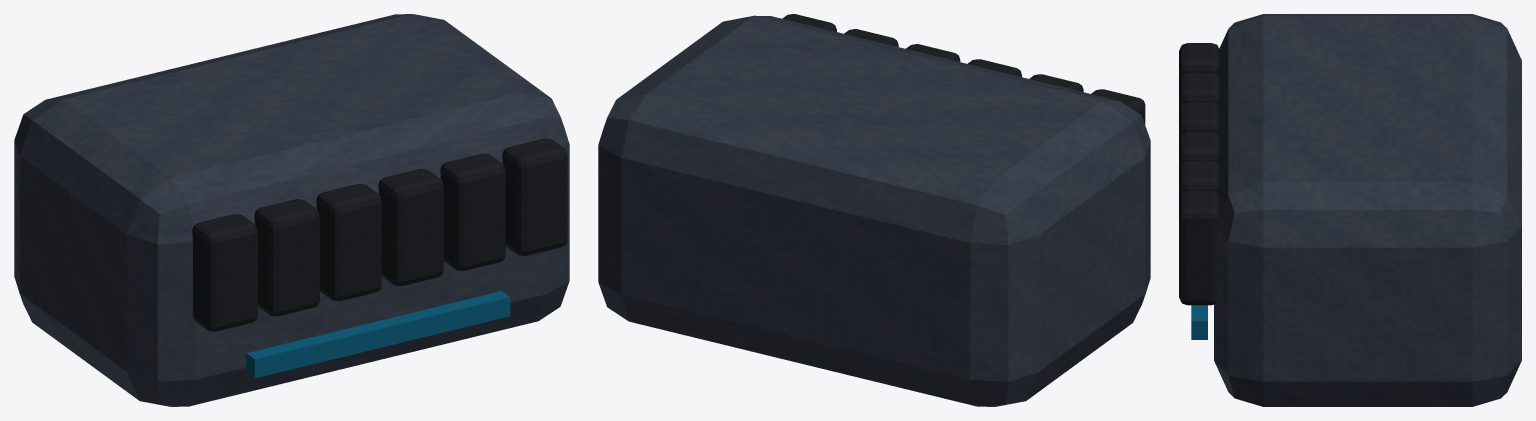
File: RoomCodeTerminal.obj
The picture shows the model from 3 angles, left to right: view 1: azimuth 30°, elevation 25°; view 2: azimuth 150°, elevation 25°; view 3: azimuth 270°, elevation 25°; orthographic projection. The views are drawn at different scales.
Parts seen in each view (by area): view 1: Terminal, Status_Light, Code_Tile_1, Code_Tile_6, Code_Tile_5, Code_Tile_4, Code_Tile_3, Code_Tile_2; view 2: Terminal, Code_Tile_1; view 3: Terminal, Code_Tile_6, Code_Tile_2, Code_Tile_4, Code_Tile_1, Code_Tile_3, Code_Tile_5, Status_Light.
Part boxes in pixels (box(x1,y1,x2,y2)): Terminal: box(14, 14, 569, 406); Status_Light: box(246, 291, 510, 378); Code_Tile_1: box(192, 214, 257, 331); Code_Tile_6: box(502, 138, 567, 255); Code_Tile_5: box(440, 153, 505, 270); Code_Tile_4: box(378, 169, 443, 286); Code_Tile_3: box(316, 184, 381, 301); Code_Tile_2: box(254, 199, 319, 316); Terminal: box(598, 15, 1150, 406); Code_Tile_1: box(1091, 89, 1145, 124); Terminal: box(1214, 14, 1521, 406); Code_Tile_6: box(1179, 190, 1219, 305); Code_Tile_2: box(1179, 72, 1219, 109); Code_Tile_4: box(1179, 131, 1219, 168); Code_Tile_1: box(1179, 43, 1219, 79); Code_Tile_3: box(1179, 102, 1219, 138); Code_Tile_5: box(1179, 161, 1219, 197); Status_Light: box(1191, 305, 1207, 339).
Bounding box in the file's own units: 0.12 × 0.06 × 0.0835.
